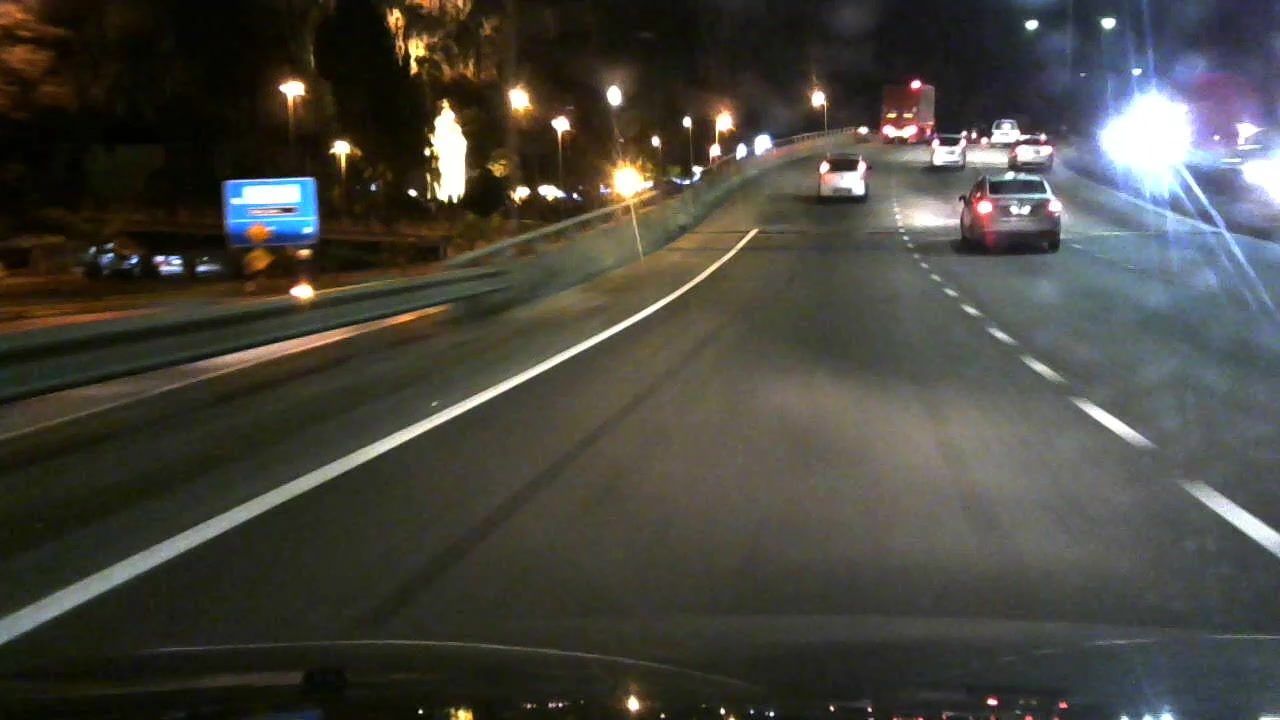Car: (954, 172, 1070, 260), (805, 152, 873, 210), (918, 122, 974, 176), (1005, 133, 1068, 177), (988, 109, 1024, 152)
